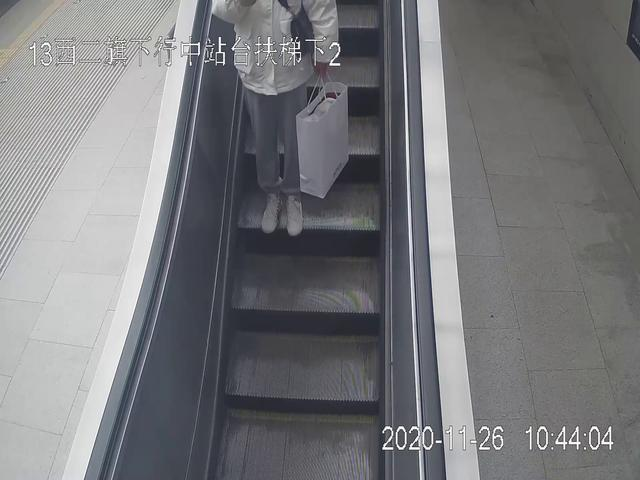person: (212, 1, 349, 238)
